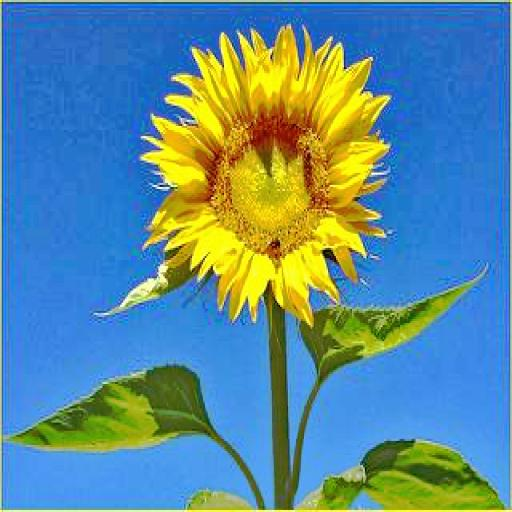sunflower: (141, 22, 392, 321)
